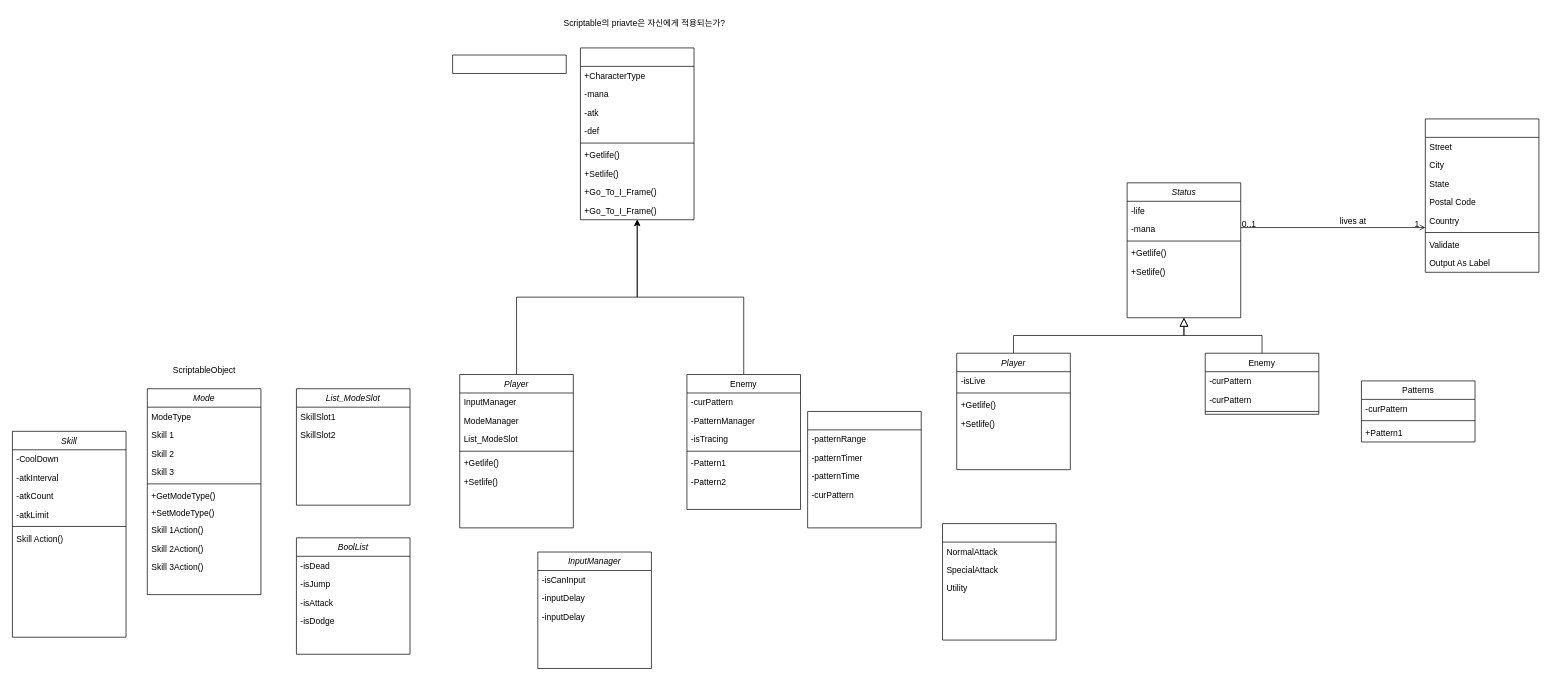
Some shapes in this 1551 by 681 pixel diagram are drawn without their labels. The box of each missing label's shape, as (x1, y1, x2, y2) in pixels:
Address: (1425, 118, 1539, 272)
CharacterObject: (580, 47, 694, 220)
CharacterType: (452, 54, 566, 73)
Combat: (942, 523, 1056, 640)
PatternManager: (807, 411, 921, 528)
